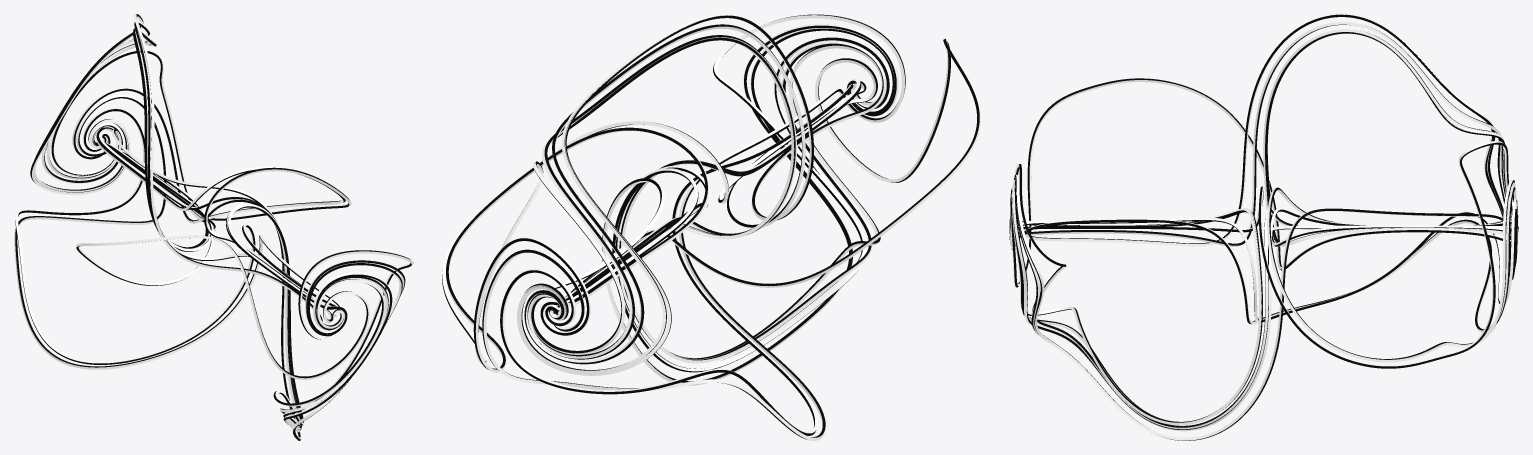
File: thomas_attractor.glb
3 views of the same model, side by side, from view 1: azimuth 30°, elevation 25°; view 2: azimuth 150°, elevation 25°; view 3: azimuth 270°, elevation 25° (orthographic). The views are drawn at different scales.
Parts seen in each view (by area): view 1: Object_2; view 2: Object_2; view 3: Object_2.
Part boxes in pixels (x1,y1,x2,y2): Object_2: [14, 14, 413, 440]; Object_2: [442, 14, 980, 440]; Object_2: [1009, 14, 1518, 440].
Size of the model in its own units: 47.35 by 50 by 59.81.
Materials: 1 (1 with a texture image).
